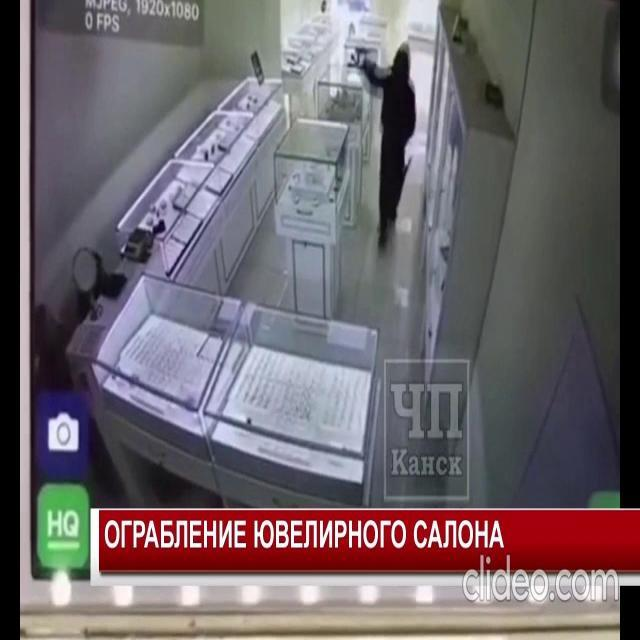pistol: (347, 49, 372, 92)
